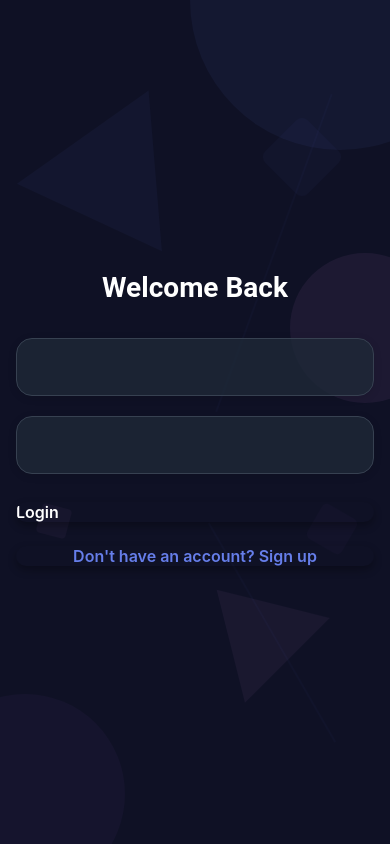
LoginScreen › dismisses snackbar correctly
# Trigger snackbar error
Click the text "Login" at (37, 512), box [16,502,59,522]
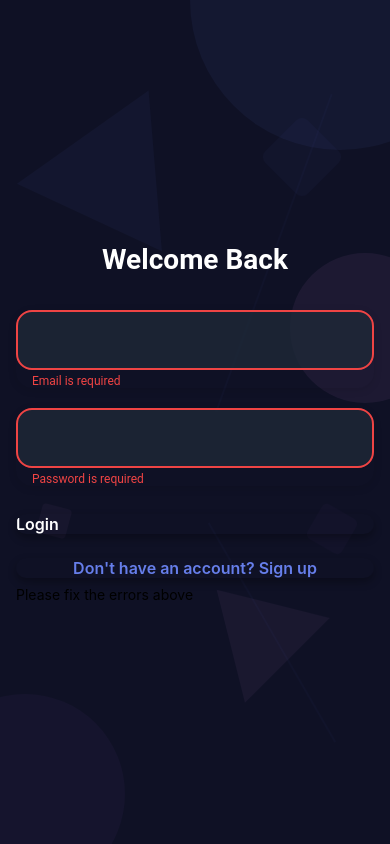
Expected: the element with test id "snackbar" is shown, [16,586,193,602]
